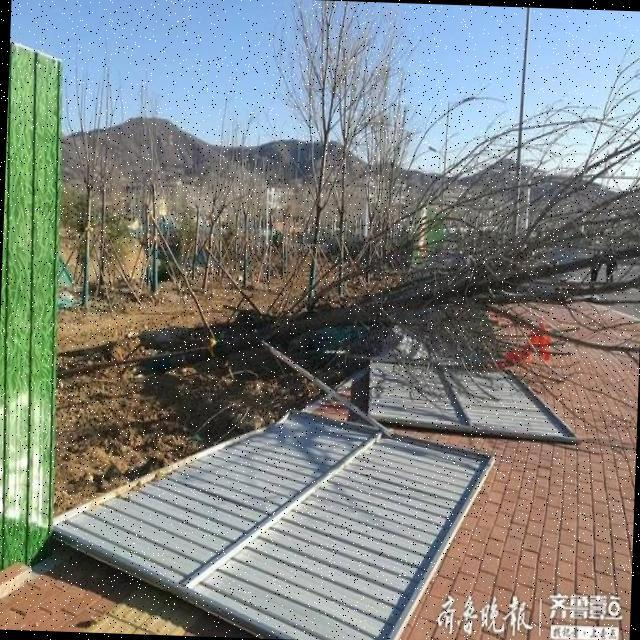fallen_object: (55, 30, 640, 395)
